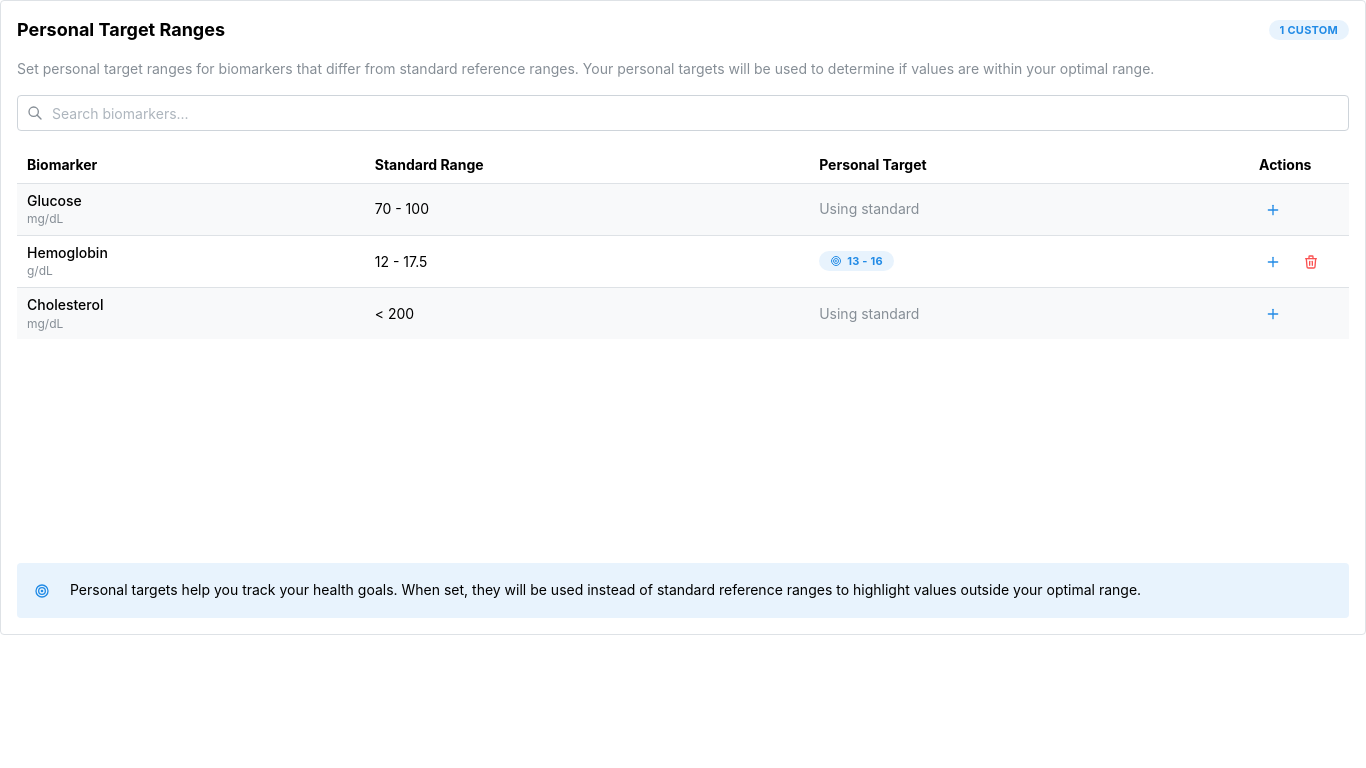
it: PersonalTargets › search functionality › should filter biomarkers by search term
The image size is (1366, 768).
Type "glucose" into the field with placeholder "Search biomarkers..." at (683, 113), box [17,95,1349,131]
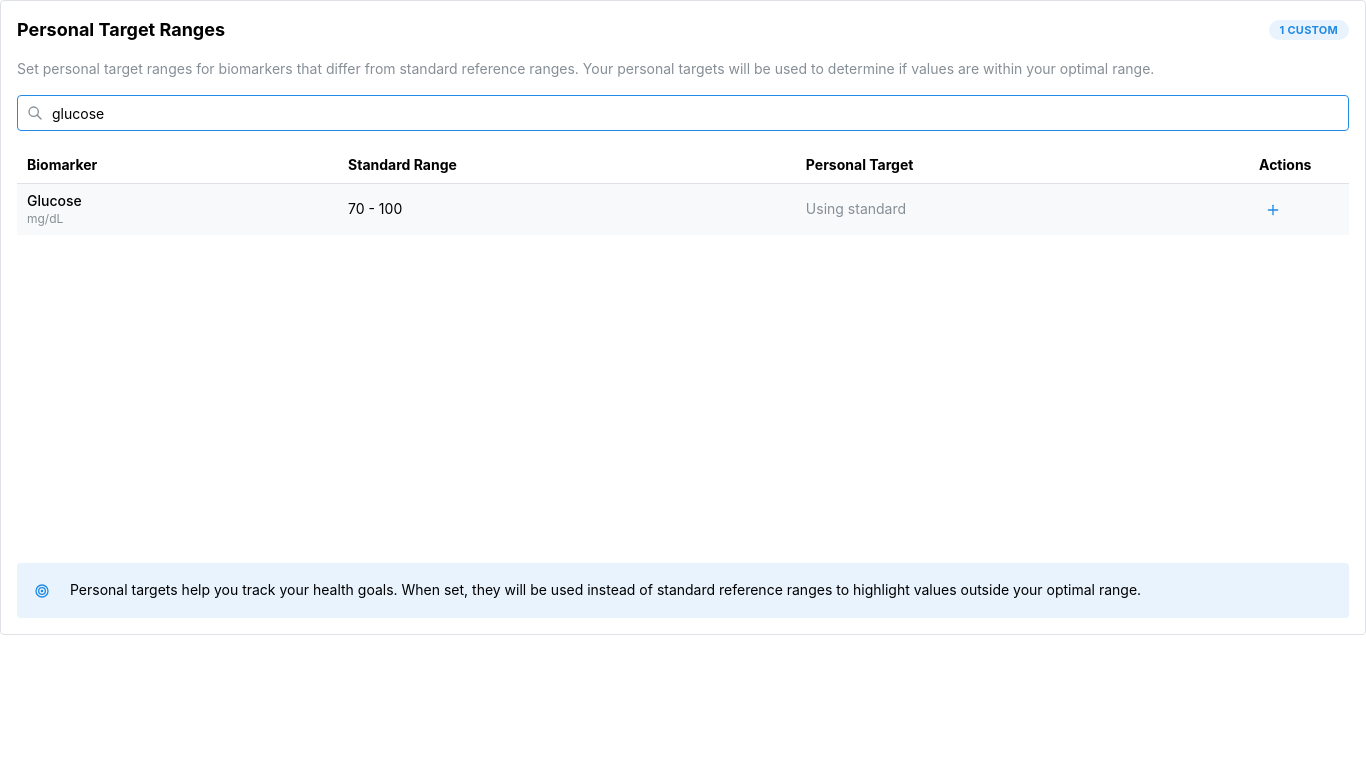
expect the text "Glucose" is shown: met, box [27,192,82,209]
expect the text "Hemoglobin" is gone: met
expect the text "Cholesterol" is gone: met
